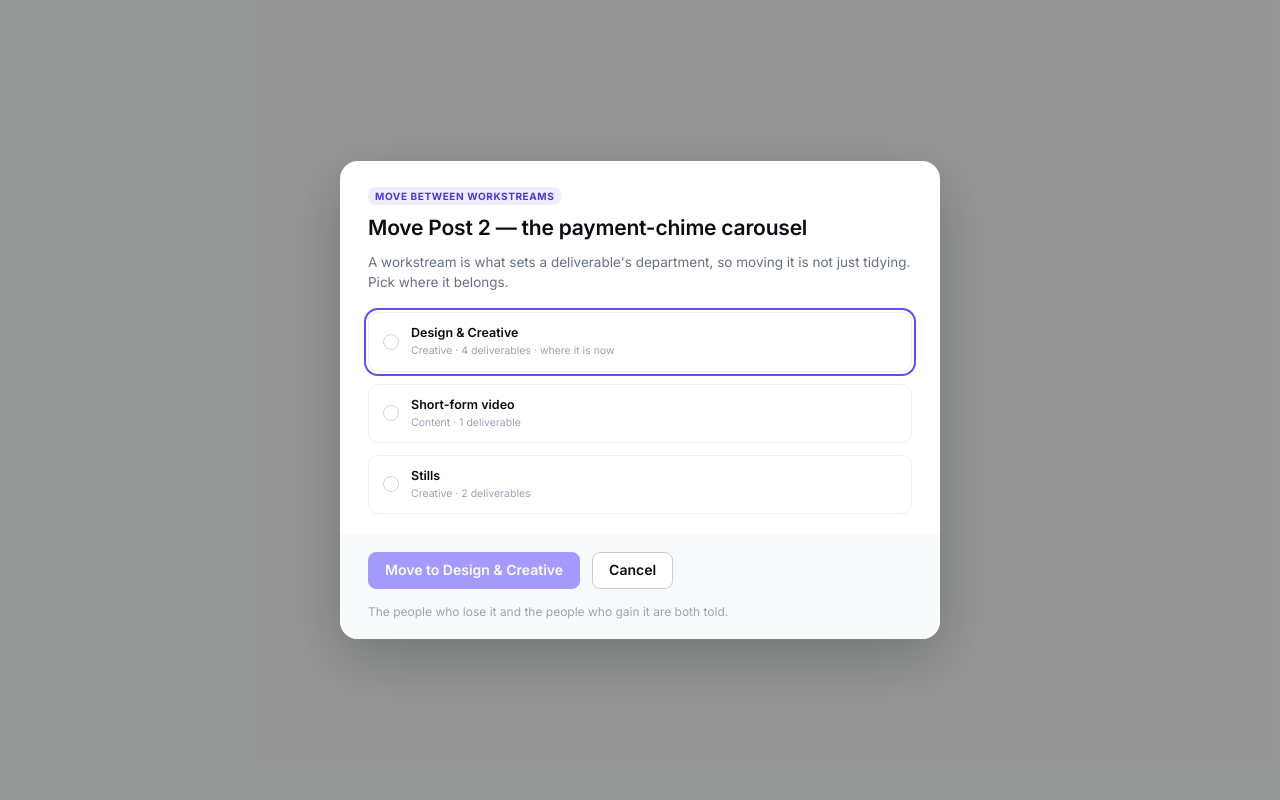
Scenario: MoveToWorkstreamDialog › warns before the press when the move changes the department (d.3)
Click the radio button with test id "move-workstream-option-ws2": (463, 404) [368,384,912,443]
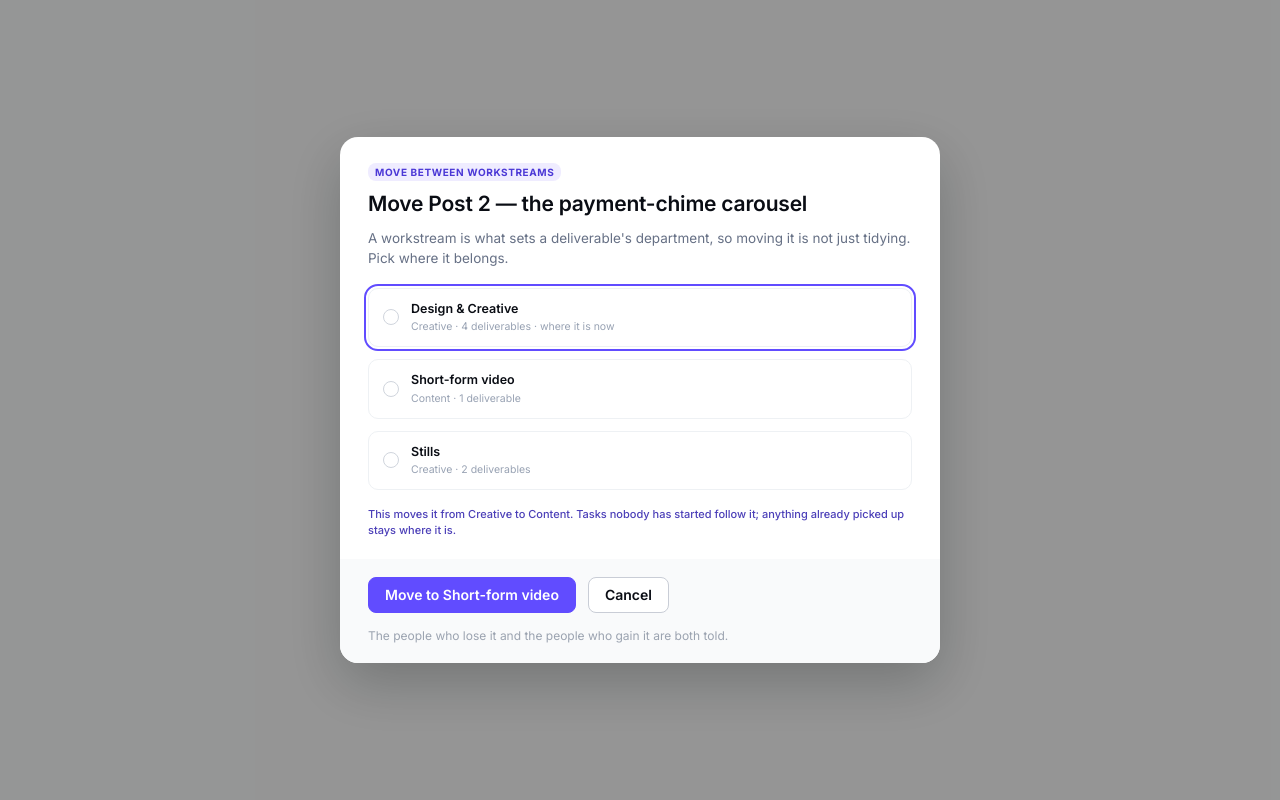
Expected: the text with test id "move-workstream-department-note" shows "from Creative to Content", [368,507,904,537]
Expected: the text with test id "move-workstream-department-note" shows "already picked up stays where it is", [368,507,904,537]
